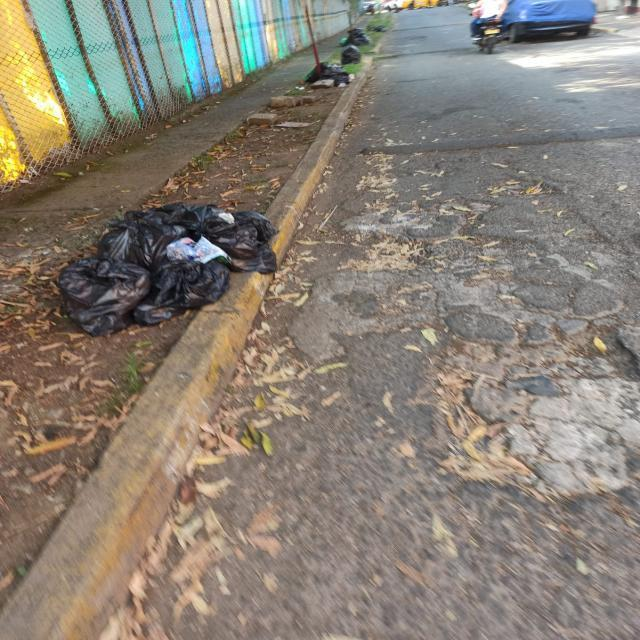Trashbag: (53, 248, 139, 332), (152, 259, 232, 320), (209, 215, 283, 265), (94, 226, 178, 254), (120, 199, 178, 221), (187, 206, 206, 232)
